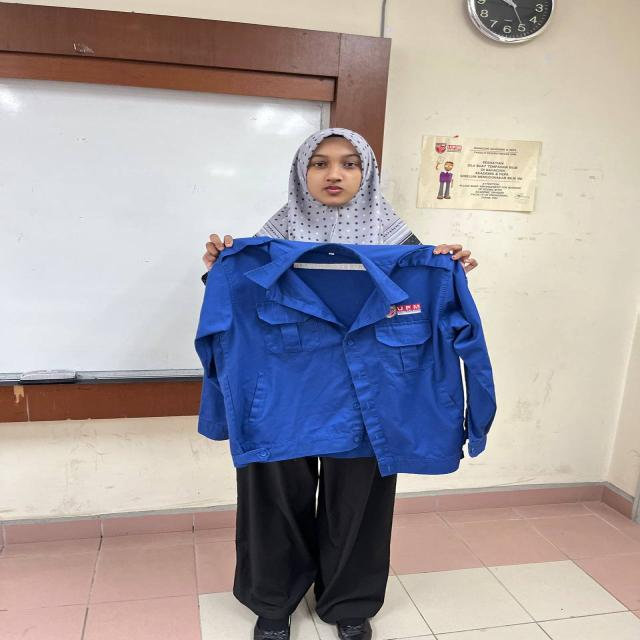person_without_labcoat: (195, 128, 495, 640)
